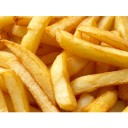frenchfries: (1, 15, 128, 111)
